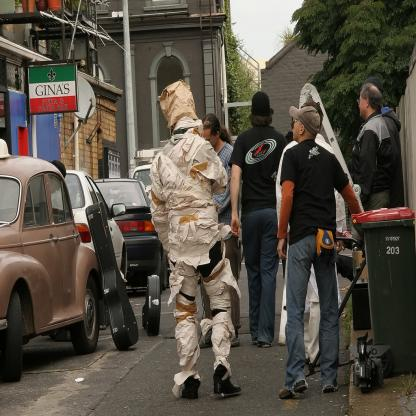Car: (1, 149, 104, 380), (50, 173, 129, 285), (99, 182, 160, 297), (129, 162, 153, 202)
